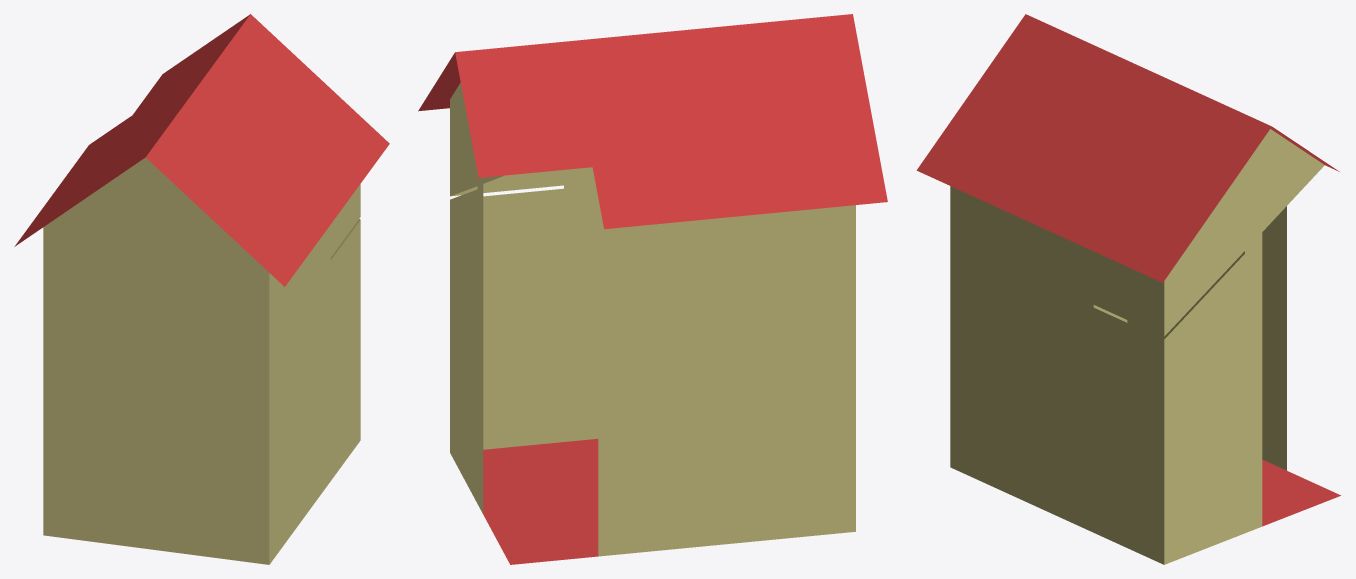
The picture shows the model from 3 angles, left to right: view 1: azimuth 30°, elevation 25°; view 2: azimuth 150°, elevation 25°; view 3: azimuth 270°, elevation 25°; orthographic projection. The views are drawn at different scales.
Bounding box in the file's own units: 14.55 × 13.37 × 14.23.
